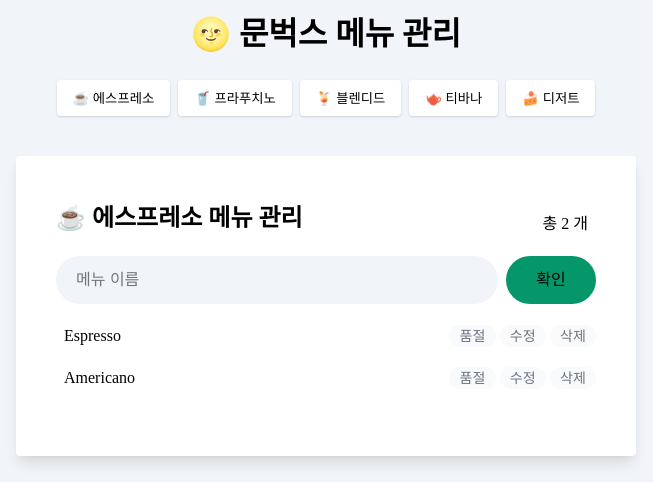
Scenario: 메인 페이지 테스팅 › 메뉴 삭제 관련 테스팅 › 등록된 모든 메뉴들을 삭제 할 경우 메뉴 리스트에 아무 것도 없어야 하며 총 메뉴 갯수는 각각 1개, 0개 여야 한다.
The width and height of the screenshot is (653, 482).
Click the button with class "menu-remove-button" in the row of "Espresso": [573, 336] box [550, 325, 596, 347]
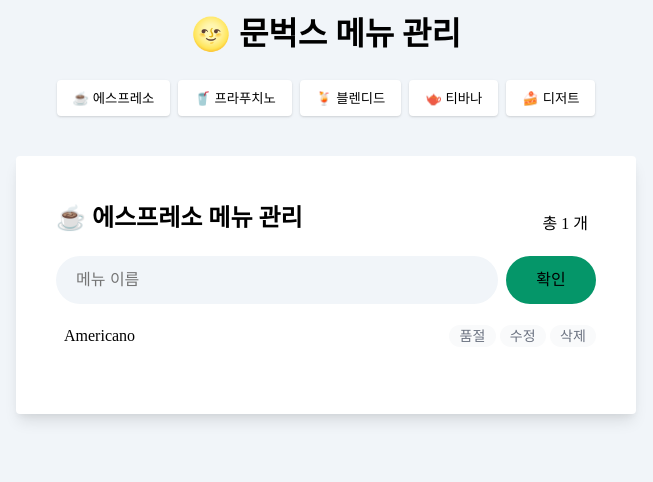
Now the text "총 1 개" is shown, box [542, 212, 588, 236]
Click the button with class "menu-remove-button": [573, 336] box [550, 325, 596, 347]
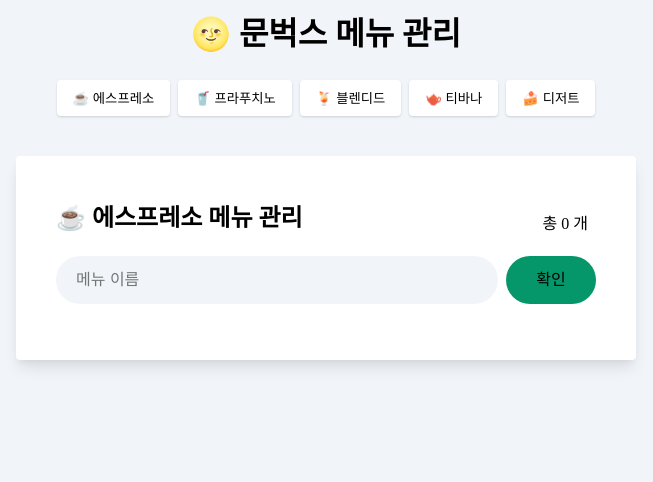
Now the text "총 0 개" is shown, box [542, 212, 588, 236]
